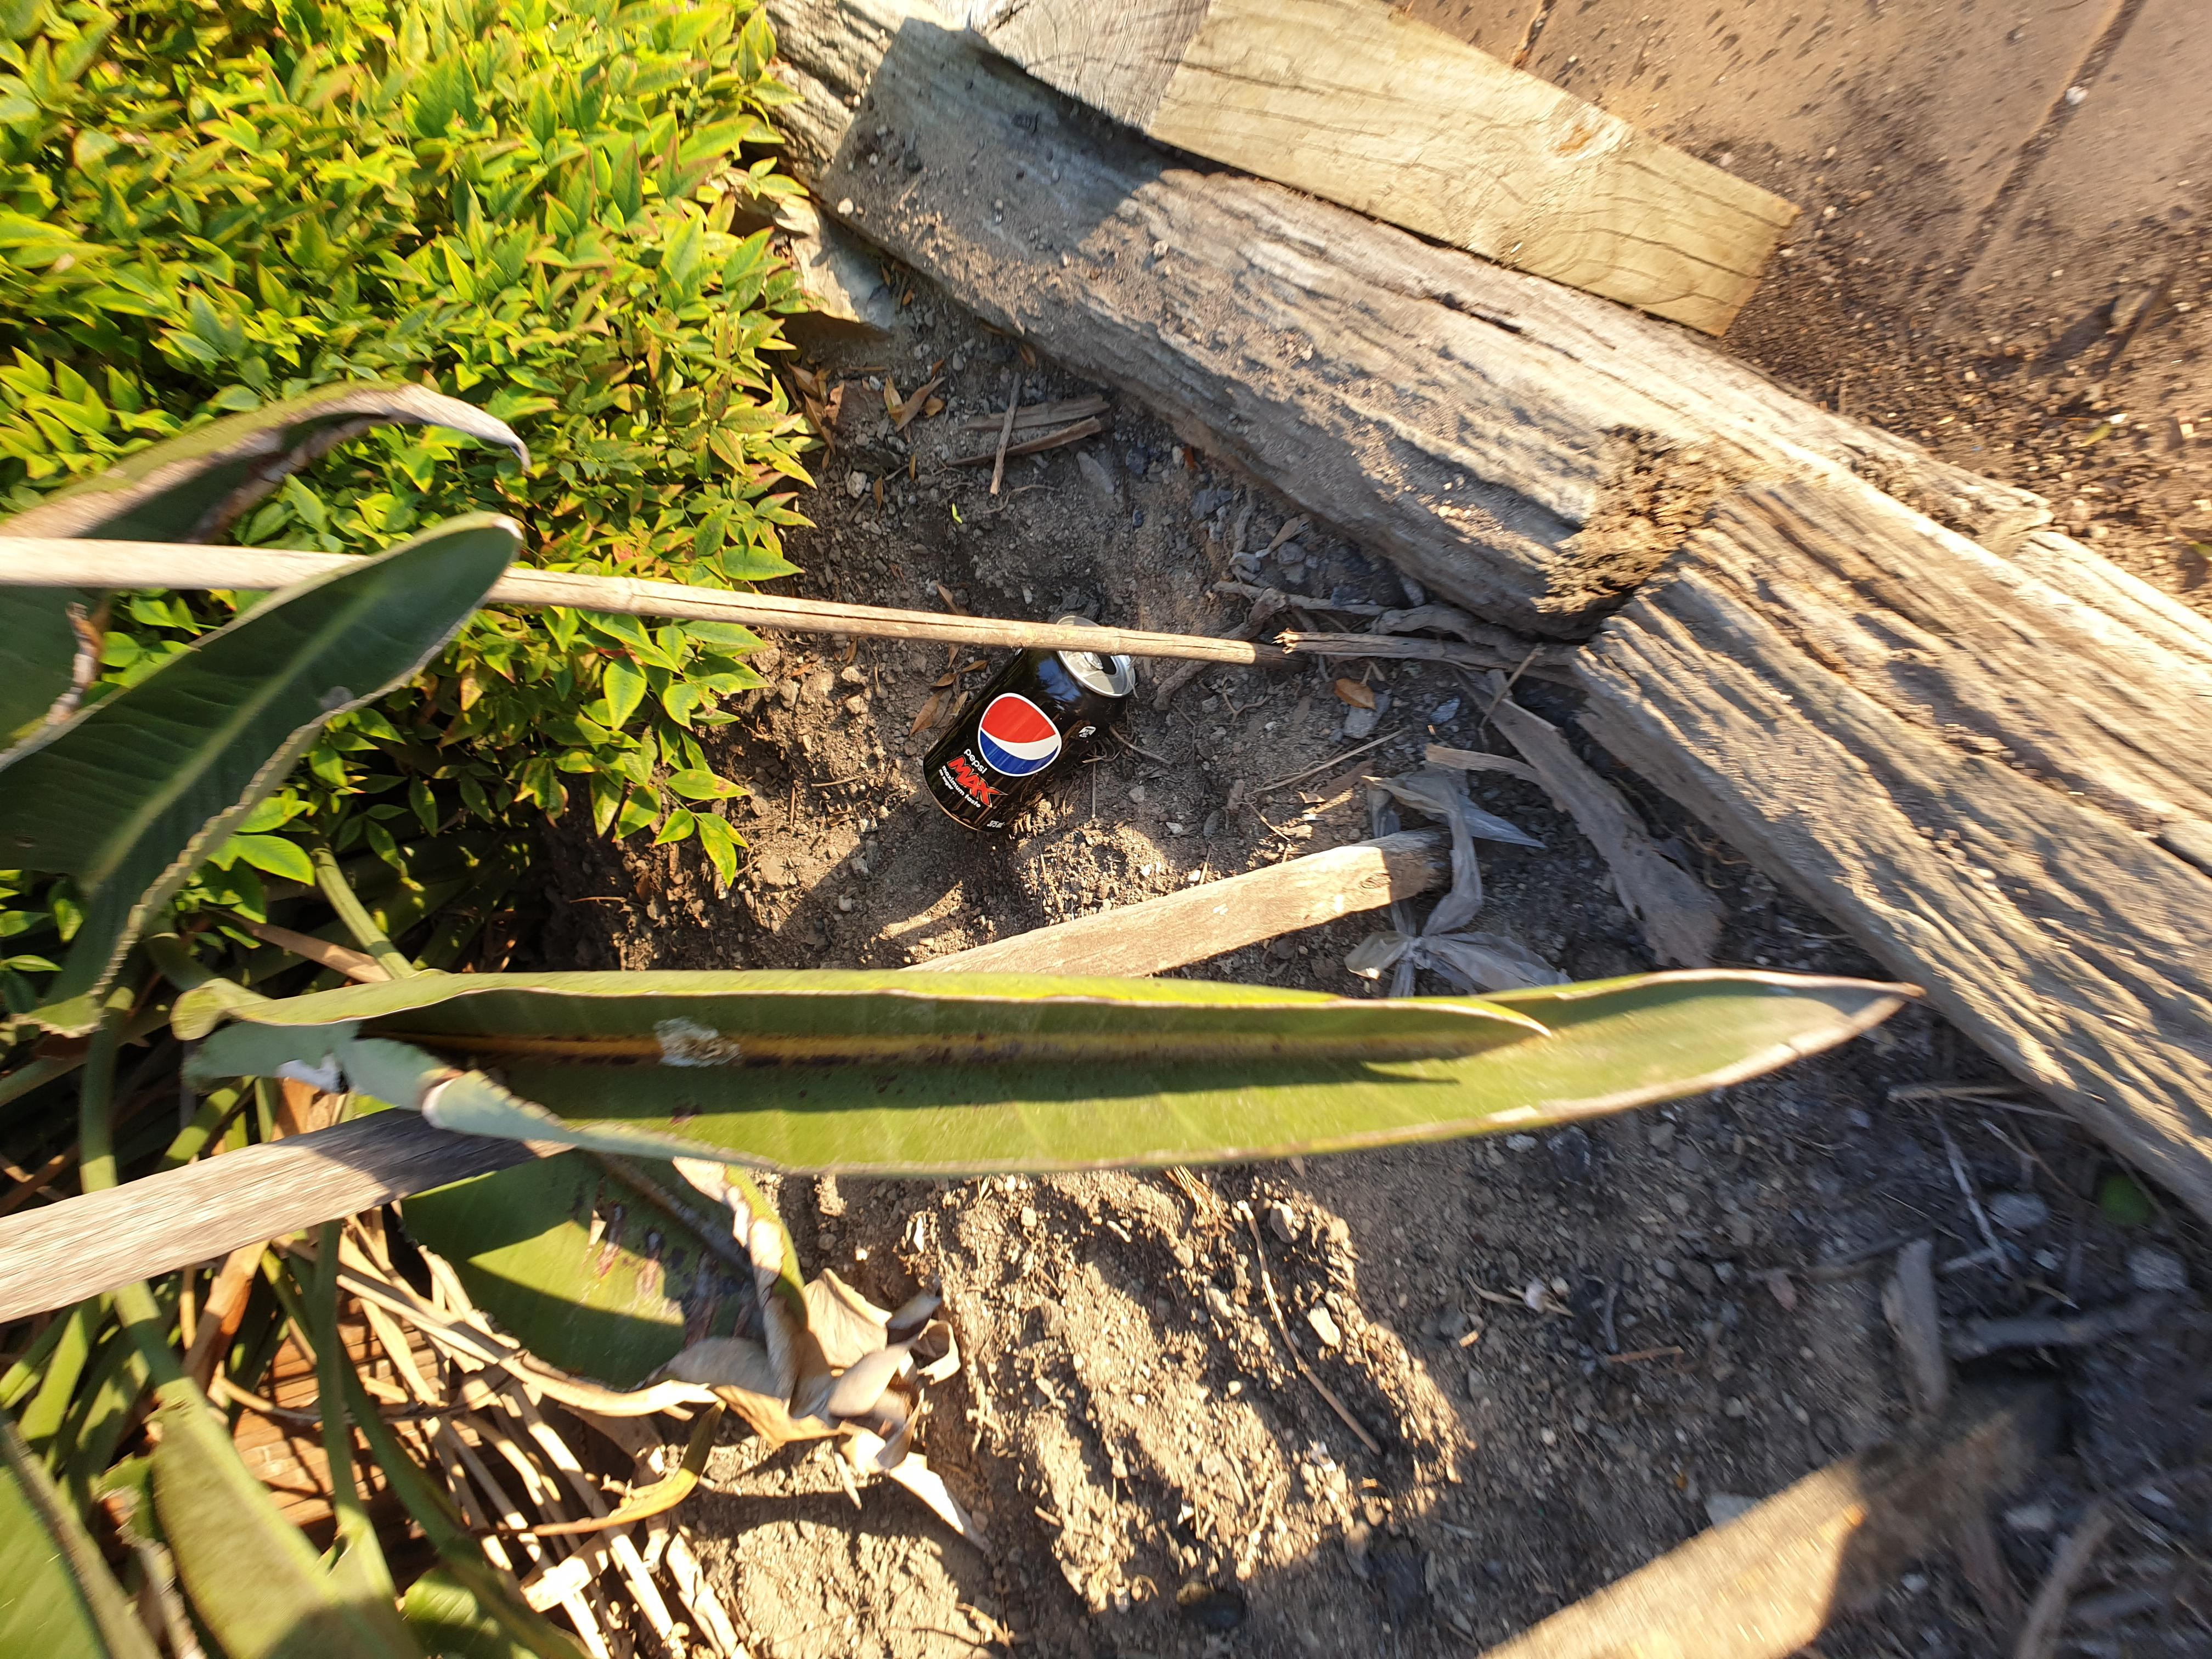Plastic Bottle: (923, 613, 1139, 830)
